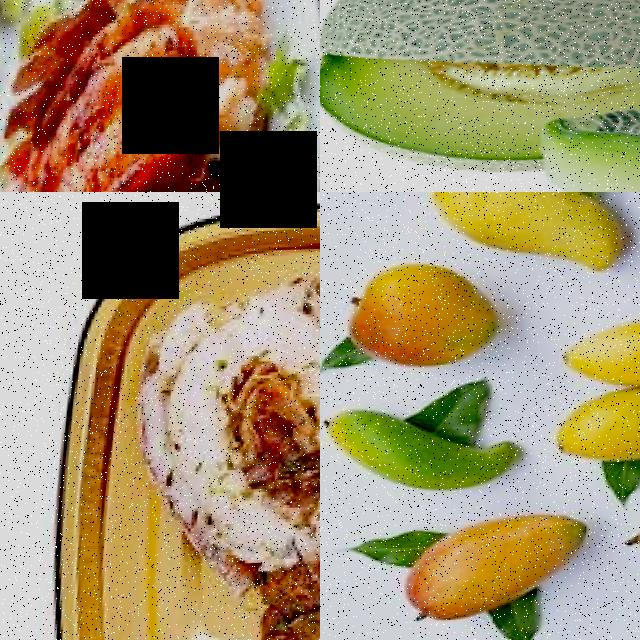lobster tails: (0, 0, 252, 192), (188, 291, 320, 640)
mango: (403, 510, 602, 626), (339, 257, 518, 375), (320, 404, 532, 496), (419, 192, 640, 266), (550, 381, 640, 465), (560, 310, 640, 387)
melon: (320, 0, 640, 123)
